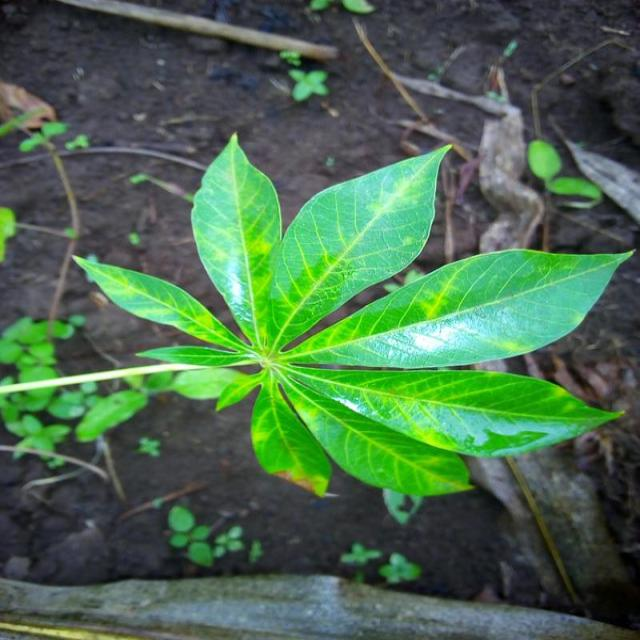cassava leaf: (66, 130, 634, 500), (281, 245, 634, 369), (267, 141, 453, 352), (190, 130, 282, 351)
